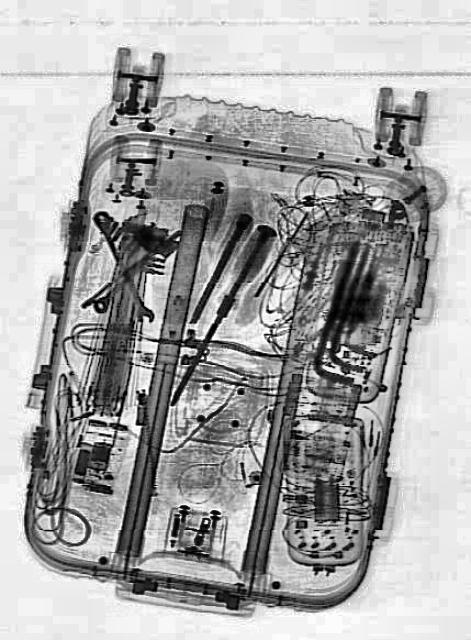Wrench: (88, 204, 156, 326)
